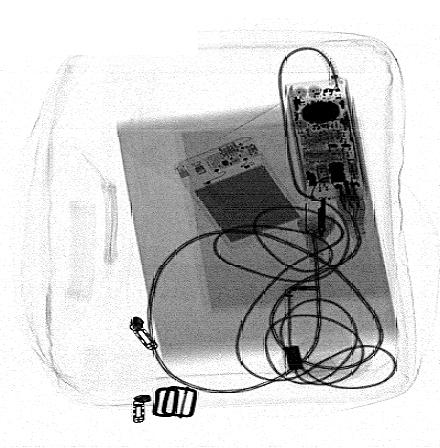Powerbank: (171, 137, 308, 250)
